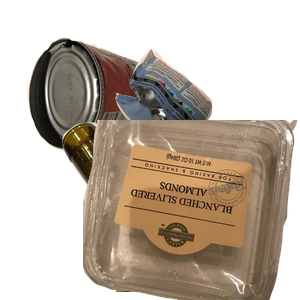glass: (60, 120, 300, 300)
metal: (25, 35, 189, 180)
plastic: (83, 120, 300, 300)
trash: (113, 46, 300, 189)
